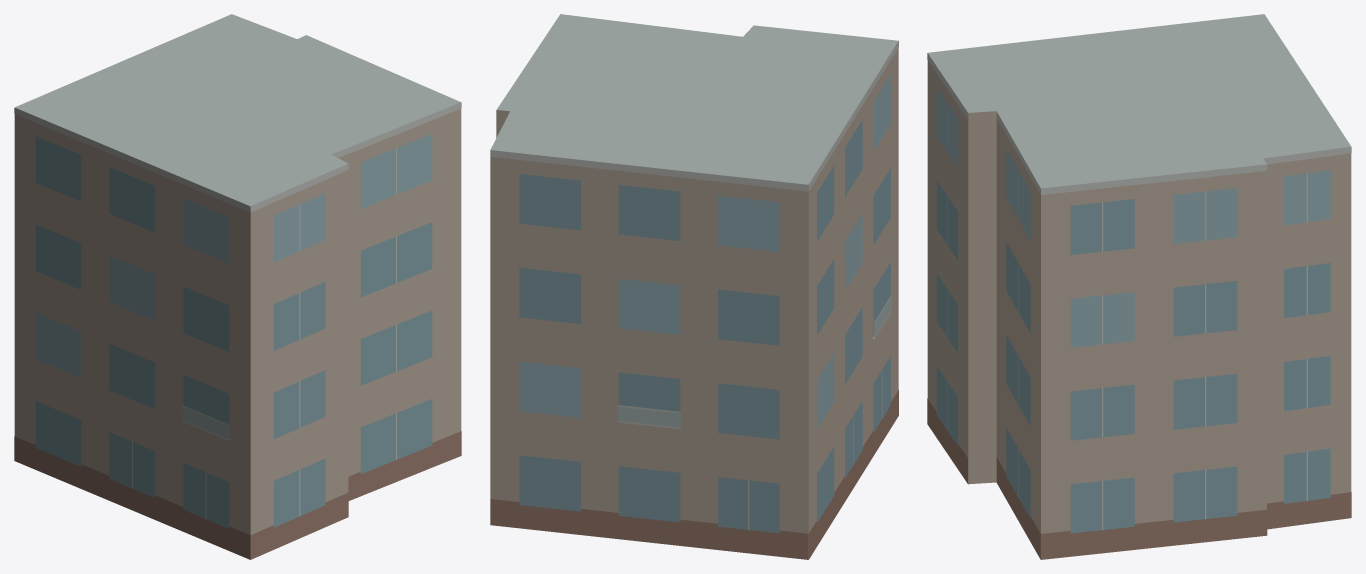
The model's file is survey-upis-32977424.glb.
3 views of the same model, side by side, from view 1: azimuth 30°, elevation 25°; view 2: azimuth 150°, elevation 25°; view 3: azimuth 270°, elevation 25° (orthographic). The views are drawn at different scales.
Parts seen in each view (by area): view 1: survey-upis-32977424.tmp; view 2: survey-upis-32977424.tmp; view 3: survey-upis-32977424.tmp.
Part boxes in pixels (<box>): survey-upis-32977424.tmp: <box>14,14,461,559</box>; survey-upis-32977424.tmp: <box>490,14,898,559</box>; survey-upis-32977424.tmp: <box>927,14,1351,559</box>.
Size of the model in its own units: 13.82 by 13.7 by 14.19.
